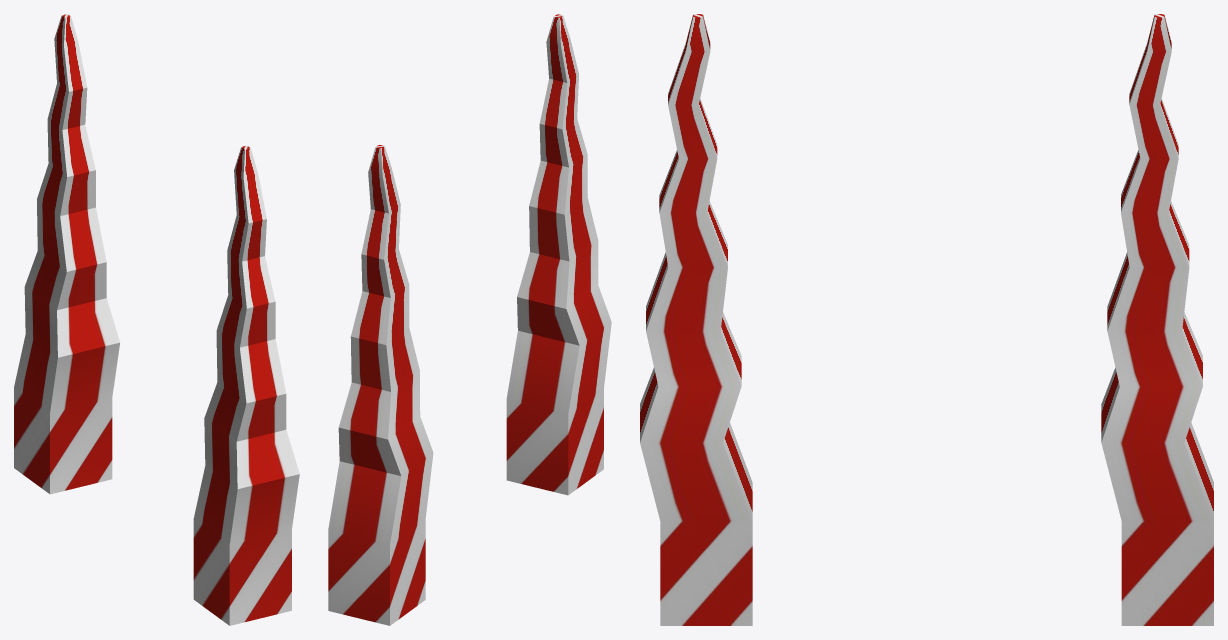
Rendered from basecama.obj.
3 renders of one model, left to right at view 1: azimuth 30°, elevation 25°; view 2: azimuth 150°, elevation 25°; view 3: azimuth 270°, elevation 25°, orthographic. The views are drawn at different scales.
Visible parts, largest first — view 1: pCube1, pCube2; view 2: pCube1, pCube2; view 3: pCube1, pCube2.
Part boxes in pixels (x1,y1,x2,y2): pCube1: (193, 145, 299, 625); pCube2: (14, 14, 120, 494); pCube1: (506, 14, 611, 495); pCube2: (328, 144, 433, 625); pCube1: (640, 14, 752, 625); pCube2: (1101, 14, 1213, 625).
Bounding box in the file's own units: 80 × 565 × 498.
1 material, 1 textured.
